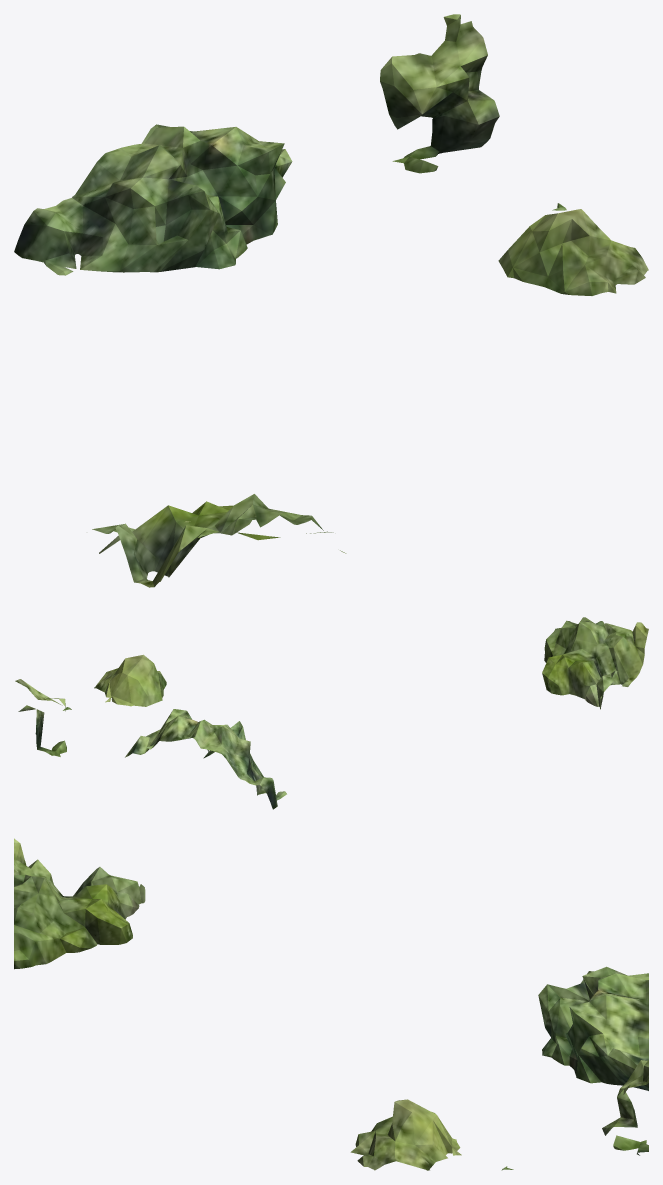
The picture shows the model from 3 angles, top to bottom: view 1: azimuth 30°, elevation 25°; view 2: azimuth 150°, elevation 25°; view 3: azimuth 270°, elevation 25°; orthographic projection. The views are drawn at different scales.
Size of the model in its own units: 52.22 by 9.15 by 52.22.
1 material, 1 textured.
